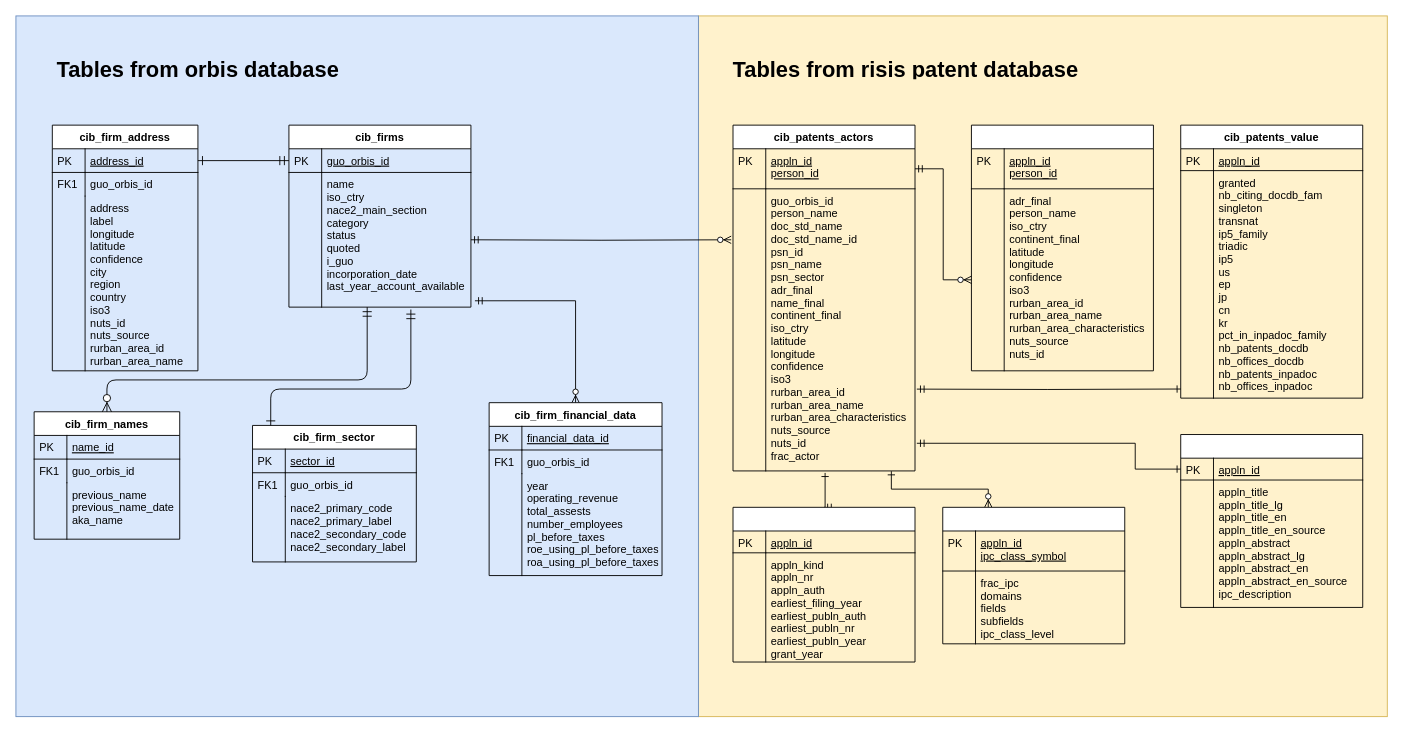
Some shapes in this 1403 by 733 pixel diagram are drawn without their labels. Each missing label, with the box of its shape:
cib_patents_inventors: (971, 124, 1153, 371)
cib_patents_priority_attributes: (732, 506, 915, 662)
cib_patents_tech_class: (942, 506, 1125, 644)
cib_patents_textual_infromation: (1180, 434, 1363, 607)
